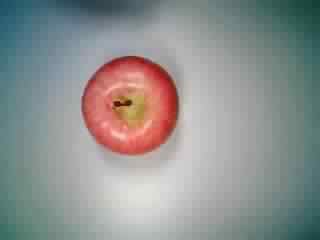apple: (77, 53, 183, 157)
